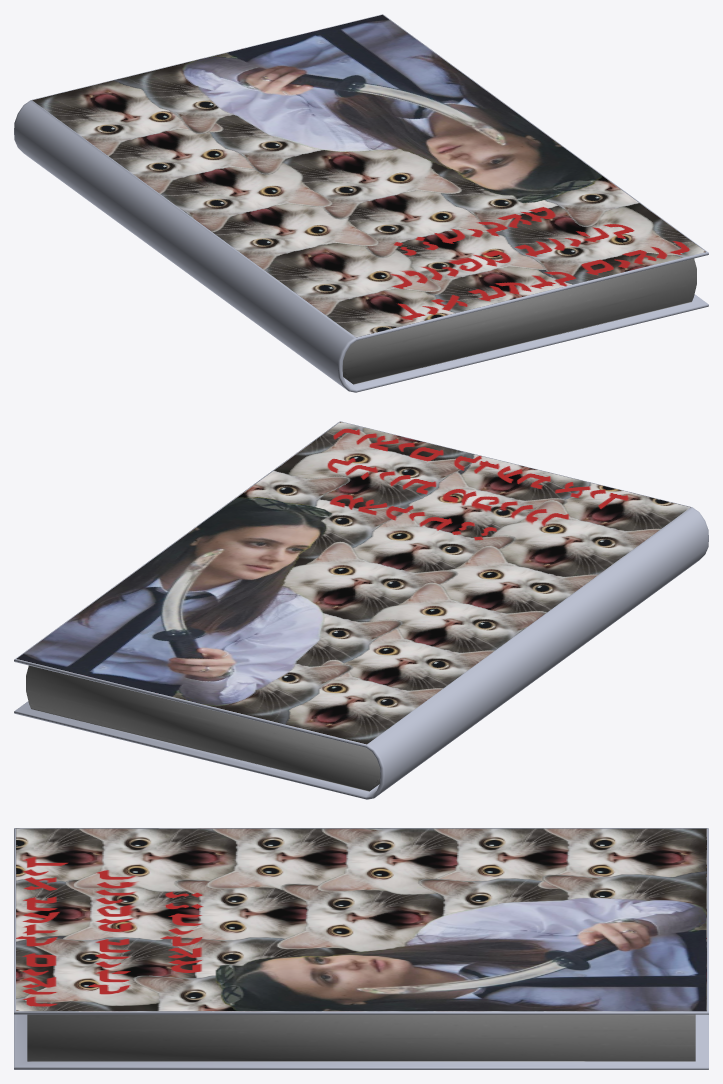
Rendered from cat 1.fbx.
The picture shows the model from 3 angles, top to bottom: view 1: azimuth 30°, elevation 25°; view 2: azimuth 150°, elevation 25°; view 3: azimuth 270°, elevation 25°; orthographic projection. The views are drawn at different scales.
Visible parts, largest first — view 1: Cube.016; view 2: Cube.016; view 3: Cube.016.
Part boxes in pixels (x1=…): Cube.016: x1=14, y1=14, x2=708, y2=392; Cube.016: x1=14, y1=421, x2=708, y2=799; Cube.016: x1=14, y1=828, x2=708, y2=1069.
Bounding box in the file's own units: 113 × 16.05 × 173.
3 materials, 2 textured.
